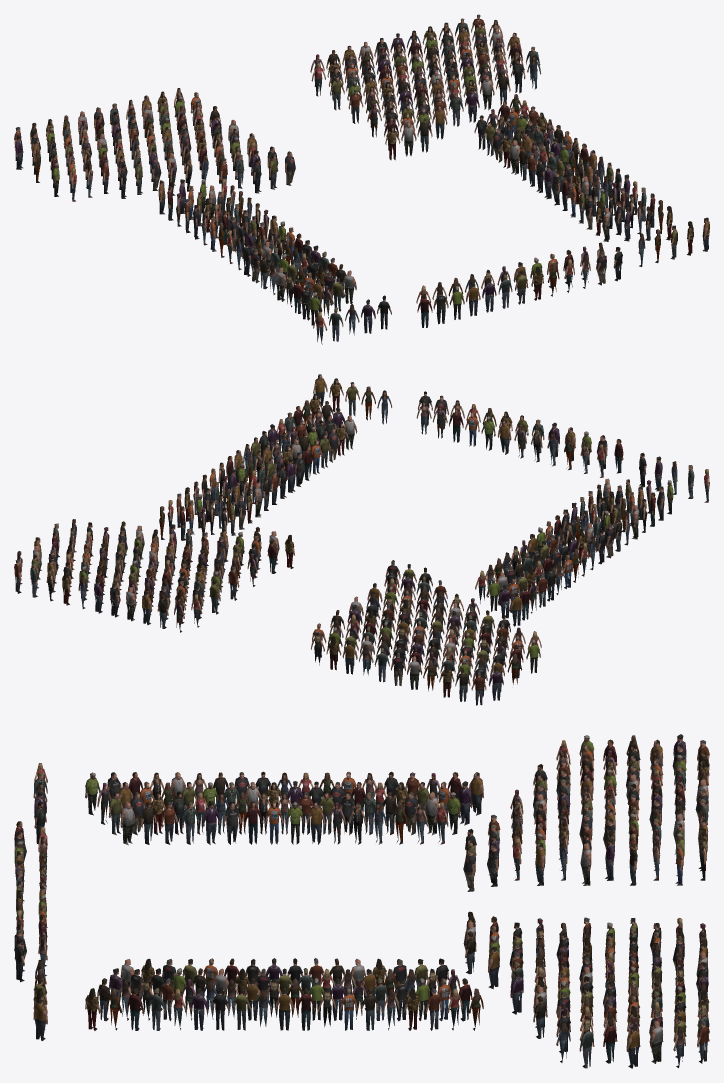
The model's file is raw_crowd_lod100.glb.
3 renders of one model, top to bottom at view 1: azimuth 30°, elevation 25°; view 2: azimuth 150°, elevation 25°; view 3: azimuth 270°, elevation 25°, orthographic. The views are drawn at different scales.
Parts seen in each view (by area): view 1: Crowd; view 2: Crowd; view 3: Crowd.
Part boxes in pixels (bbox=[...]): Crowd: bbox=[14, 14, 709, 344]; Crowd: bbox=[14, 374, 709, 705]; Crowd: bbox=[14, 734, 709, 1068].
Size of the model in its own units: 30.19 by 1.98 by 29.93.
Materials: 20 (20 with a texture image).
